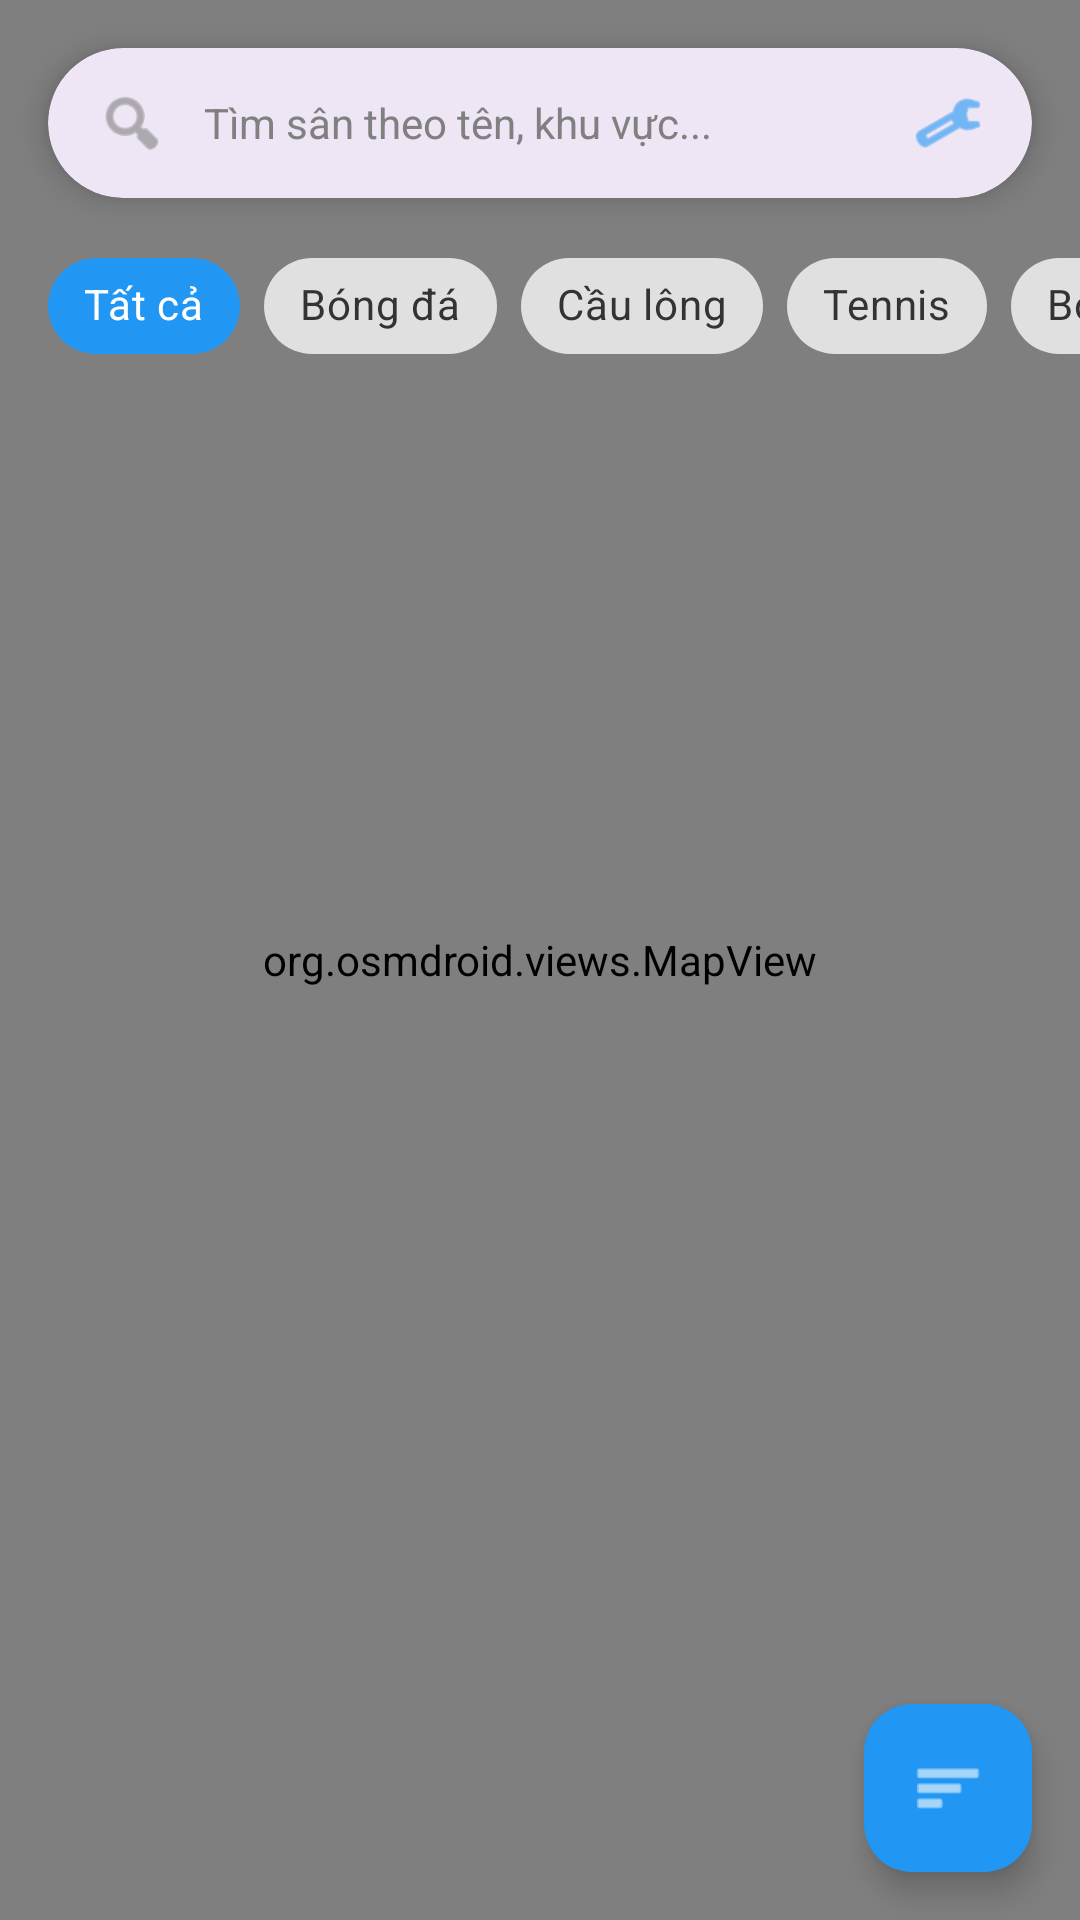

Screen size 1080×1920. Icon name, then its box in pixels as (x1, y1, x2, y2):
Chuyển chế độ xem: (864, 1704, 1032, 1872)
search: (106, 97, 158, 150)
